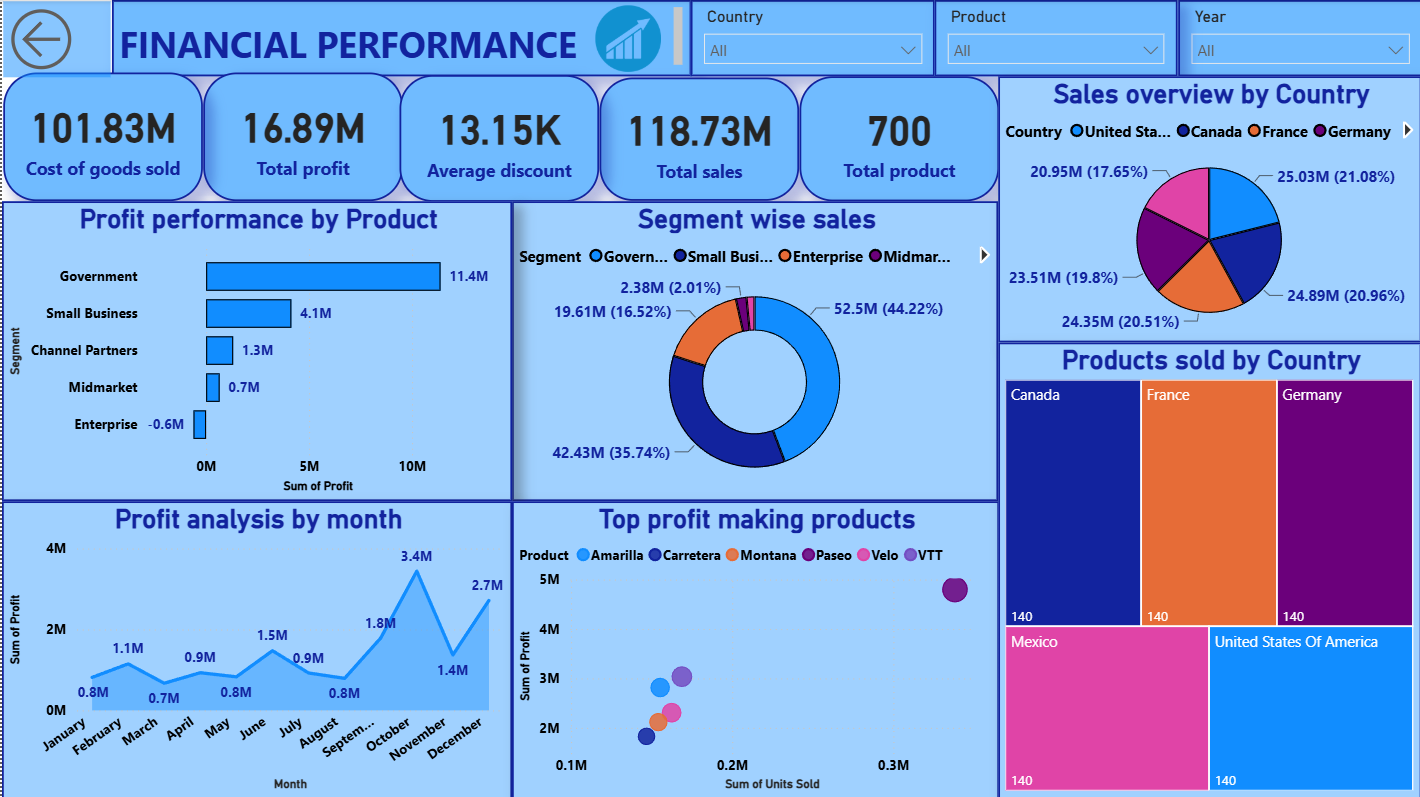

What the dashboard file says about the page in this screenshot:
{"tool":"powerbi","page":{"name":"FINANCIAL PERFORMANCE DASHBOARD","canvas":[1280,720],"ordinal":1},"visuals":[{"type":"textbox","box":[99,0,522.1,68.5],"z":0},{"type":"slicer","fields":{"Values":["financials.Year"]},"box":[1060.2,0,220.1,68.5],"z":1000},{"type":"slicer","fields":{"Values":["financials.Country"]},"box":[621.2,0,220.1,68.5],"z":2000},{"type":"slicer","fields":{"Values":["financials.Product"]},"box":[841.3,0,218.9,68.5],"z":3000},{"type":"card","fields":{"Values":["financials.Total sales"]},"box":[538.6,70,180,111.4],"z":4000},{"type":"card","fields":{"Values":["financials.Total profit"]},"box":[181.4,65.7,180,115.7],"z":5000},{"type":"card","fields":{"Values":["financials.Total discount"]},"box":[358.6,67.1,180,114.3],"z":6000},{"type":"card","fields":{"Values":["financials.Cost of goods sold"]},"box":[1.4,65.7,180,115.7],"z":7000},{"type":"card","fields":{"Values":["financials.Total product"]},"box":[718.6,68.6,180,112.9],"z":8000},{"type":"donutChart","title":"Segment wise sales","fields":{"Y":["Sum(financials. Sales)"],"Category":["financials.Segment"]},"box":[460,181.4,438.6,270],"z":9000},{"type":"pieChart","title":"Sales overview by Country","fields":{"Y":["Sum(financials. Sales)"],"Category":["financials.Country"]},"box":[898.8,68.5,381.5,239.7],"z":10000},{"type":"barChart","title":"Profit performance  by Product","fields":{"Y":["Sum(financials.Profit)"],"Category":["financials.Segment"]},"box":[0,181.4,460,270],"z":11000},{"type":"areaChart","title":"Profit analysis by month","fields":{"Category":["financials.Date.Variation.Date Hierarchy.Month"],"Y":["Sum(financials.Profit)"]},"box":[0,451.5,459.7,269],"z":12000},{"type":"scatterChart","title":"Top profit making products","fields":{"X":["Sum(financials.Units Sold)"],"Y":["Sum(financials.Profit)"],"Size":["Sum(financials. Sales)"],"Series":["financials.Product"]},"box":[459.7,451.5,439.1,269],"z":13000},{"type":"treemap","title":"Products sold  by Country","fields":{"Group":["financials.Country"],"Values":["CountNonNull(financials.Product)"]},"box":[898.8,308.7,381.5,411.7],"z":14000},{"type":"image","box":[528.3,0,72.1,69.7],"z":15000},{"type":"actionButton","box":[1.4,1.4,97.1,68.6],"z":16000}]}

Visuals, with their boxes in screenshot pixels (x1, y1, x2, y2), scaled from the page's 1280x720 canvas onto the 1420x797 screenshot:
textbox: (110,0,689,76)
slicer - financials.Year: (1176,0,1419,76)
slicer - financials.Country: (689,0,933,76)
slicer - financials.Product: (933,0,1176,76)
card - financials.Total sales: (598,77,797,201)
card - financials.Total profit: (201,73,401,201)
card - financials.Total discount: (398,74,598,201)
card - financials.Cost of goods sold: (2,73,201,201)
card - financials.Total product: (797,76,997,201)
"Segment wise sales" donutChart: (510,201,997,500)
"Sales overview by Country" pieChart: (997,76,1419,341)
"Profit performance  by Product" barChart: (0,201,510,500)
"Profit analysis by month" areaChart: (0,500,510,796)
"Top profit making products" scatterChart: (510,500,997,796)
"Products sold  by Country" treemap: (997,342,1419,796)
image: (586,0,666,77)
actionButton: (2,2,109,77)
